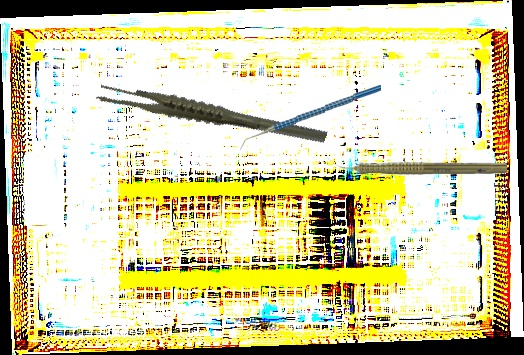Chopper: (237, 84, 384, 152)
Handpiece: (327, 156, 507, 177)
Tissue Forceps: (95, 44, 329, 186)
